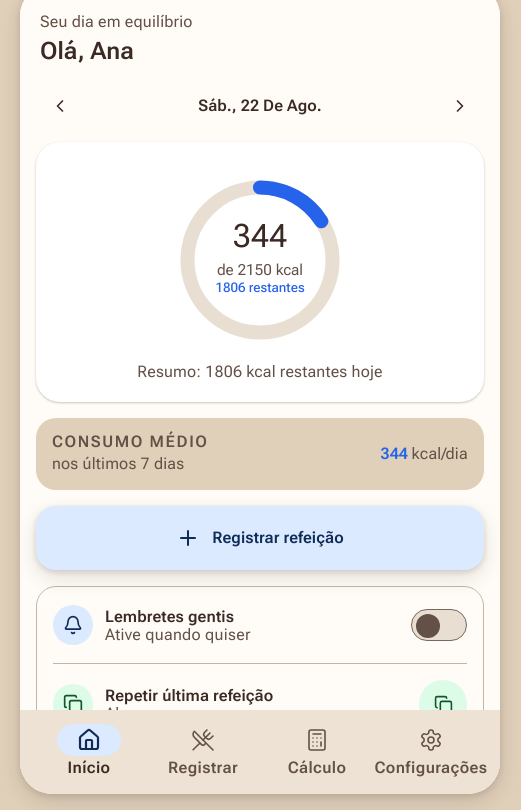
Test: acessibilidade WCAG do ComiTora › mantém cálculo, detalhe de refeição e configurações sem violações axe
(page scrolled)
Expected: the heading "Olá, Ana" is shown, 40,37 -> 134,65
Click the button "Cálculo" at [317, 750], box 260,718 -> 374,782
(page scrolled)
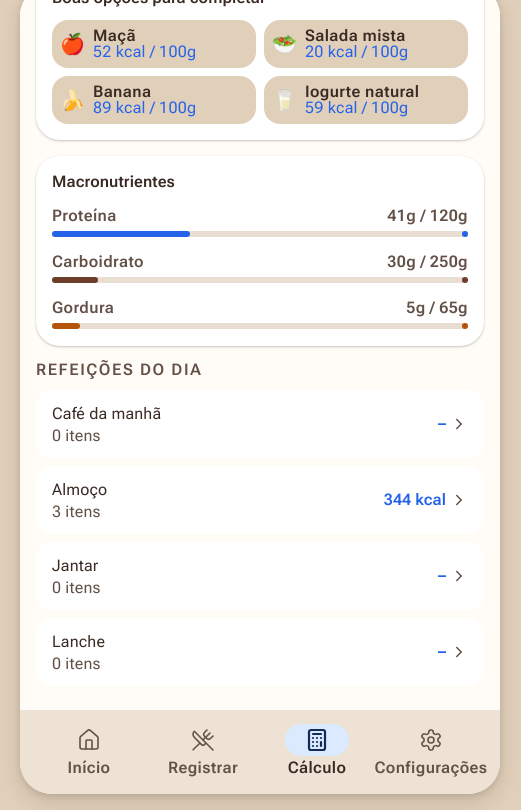
Click the button "Almoço 3 itens 344 kcal" at [80, 490], box 36,466 -> 484,534
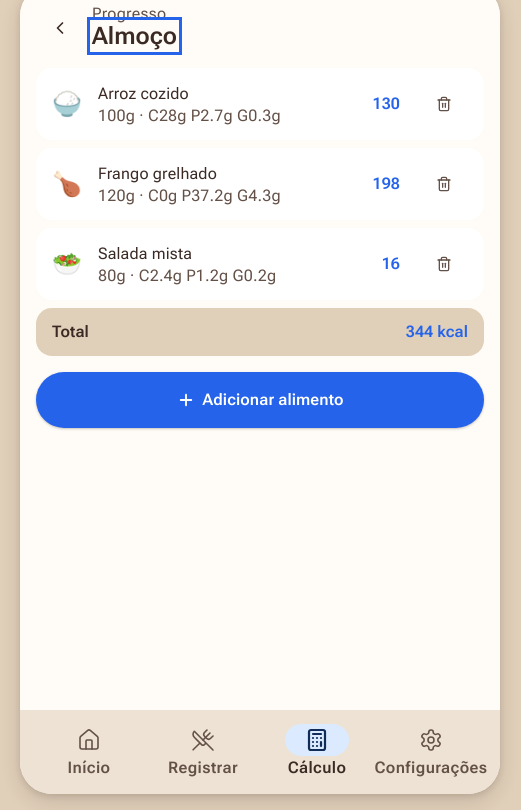
Click the button "Configurações" at [431, 750], box 374,718 -> 488,782
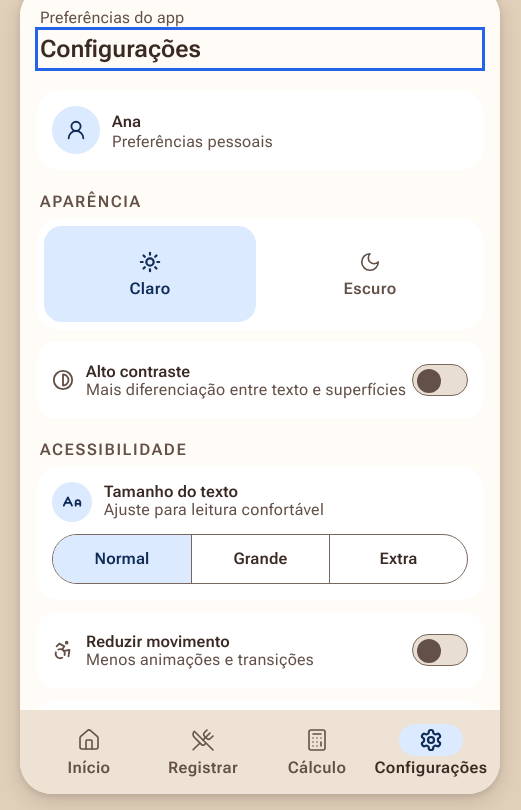
Expected: the radio button with aria-label "Tema claro" is checked, 44,226 -> 256,322
Expected: the checkbox named "Alto contraste" is not checked, 412,358 -> 468,402
